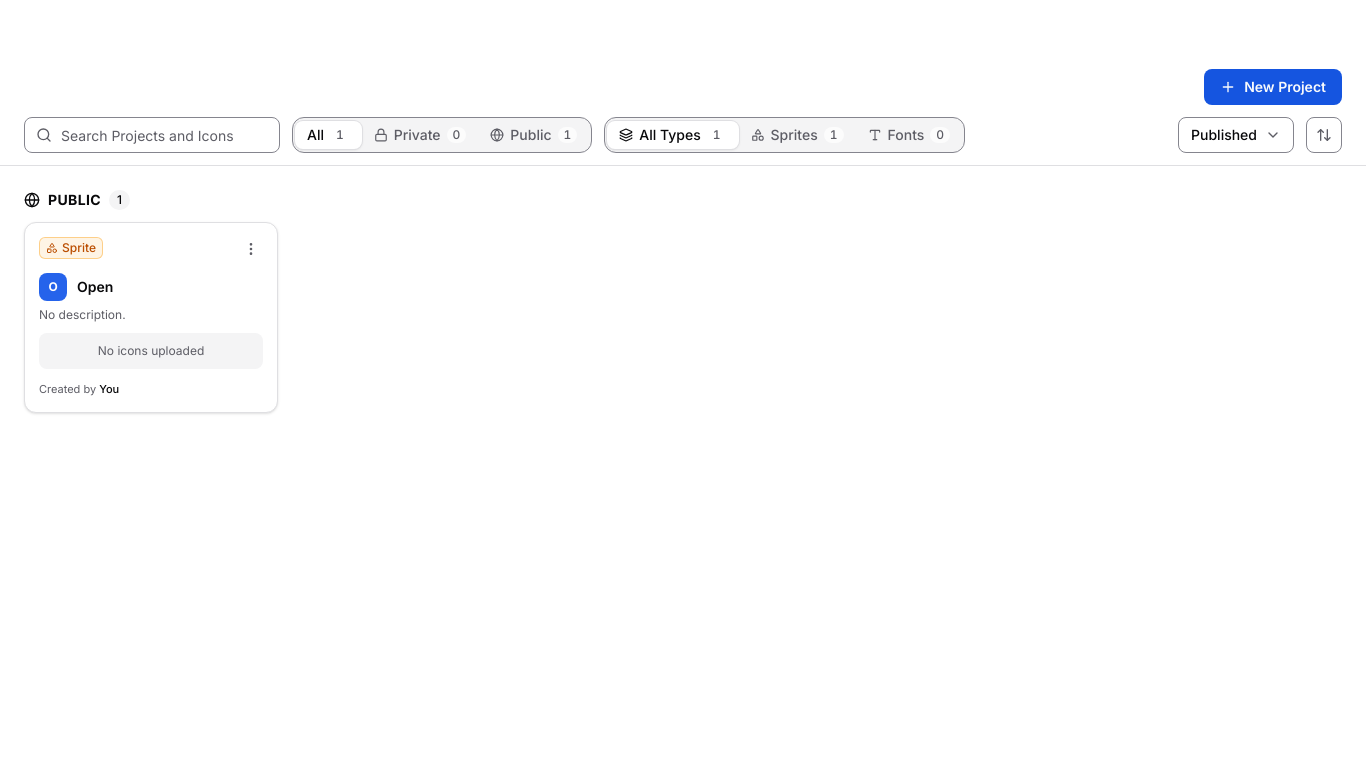
Test: making a project public or private › asks before making a project private, and changes nothing on Cancel
Click the button named "Actions for Open". click: (251,249)
box: [239, 237, 263, 261]
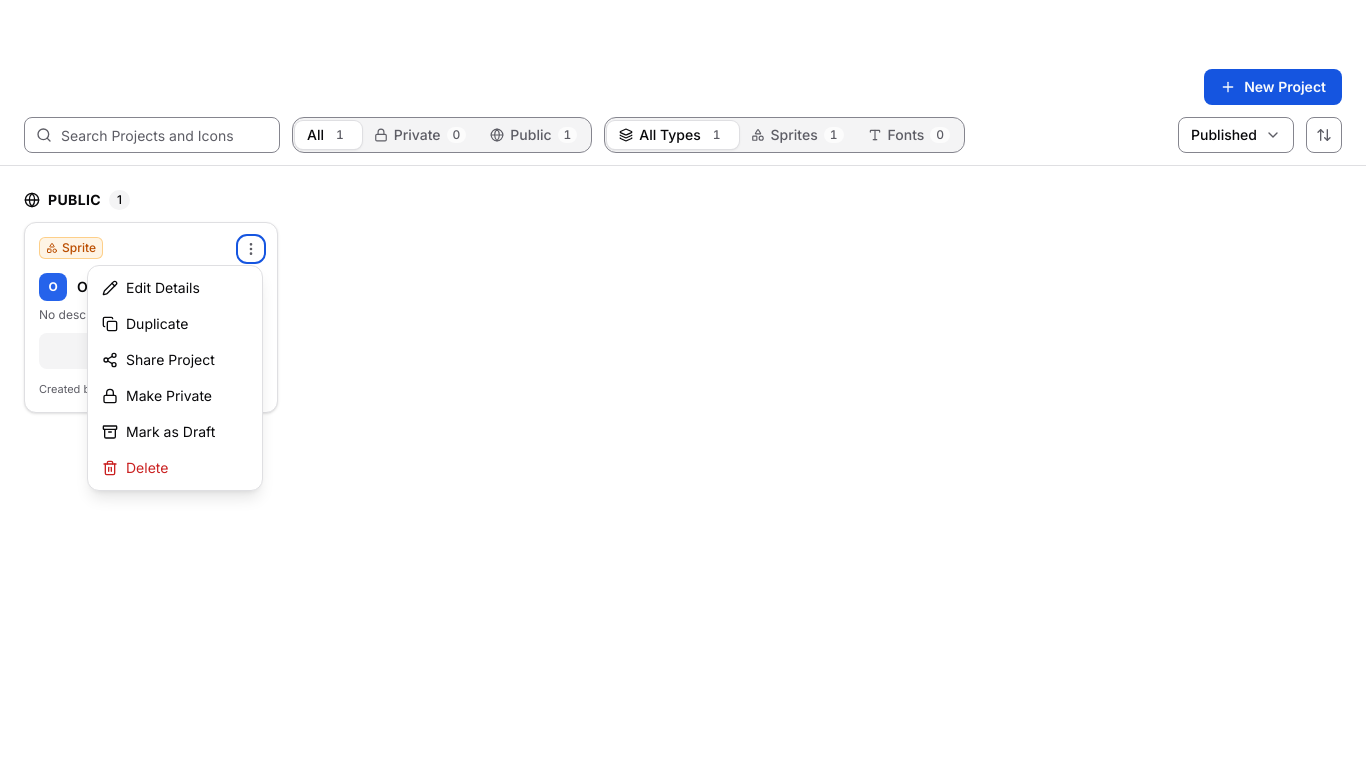
Click the menu item "Make Private". click: (175,396)
box: [92, 378, 258, 414]
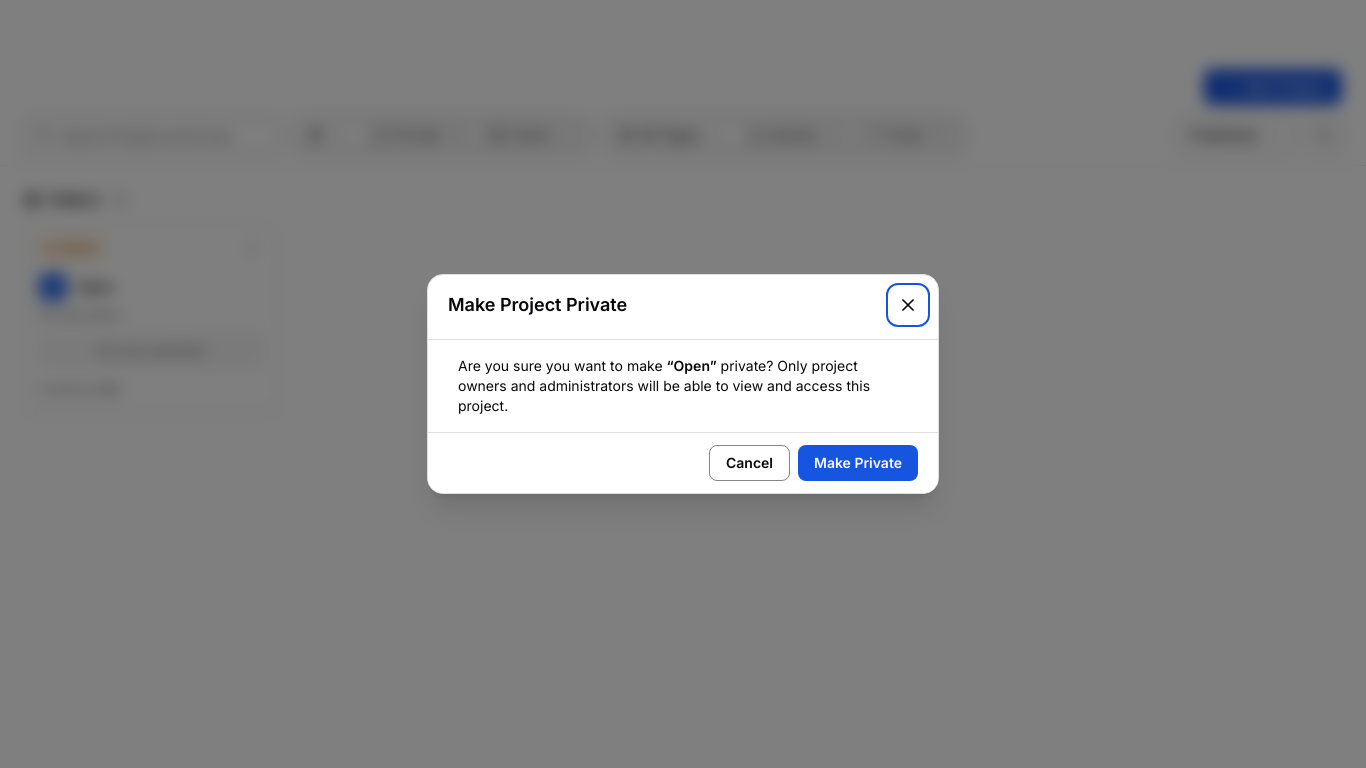
Expected: the dialog "Make Project Private" shows "Are you sure you want to make “Open” private?", [427, 274, 939, 494]
Click the button "Cancel". click: (750,463)
box: [709, 445, 790, 481]
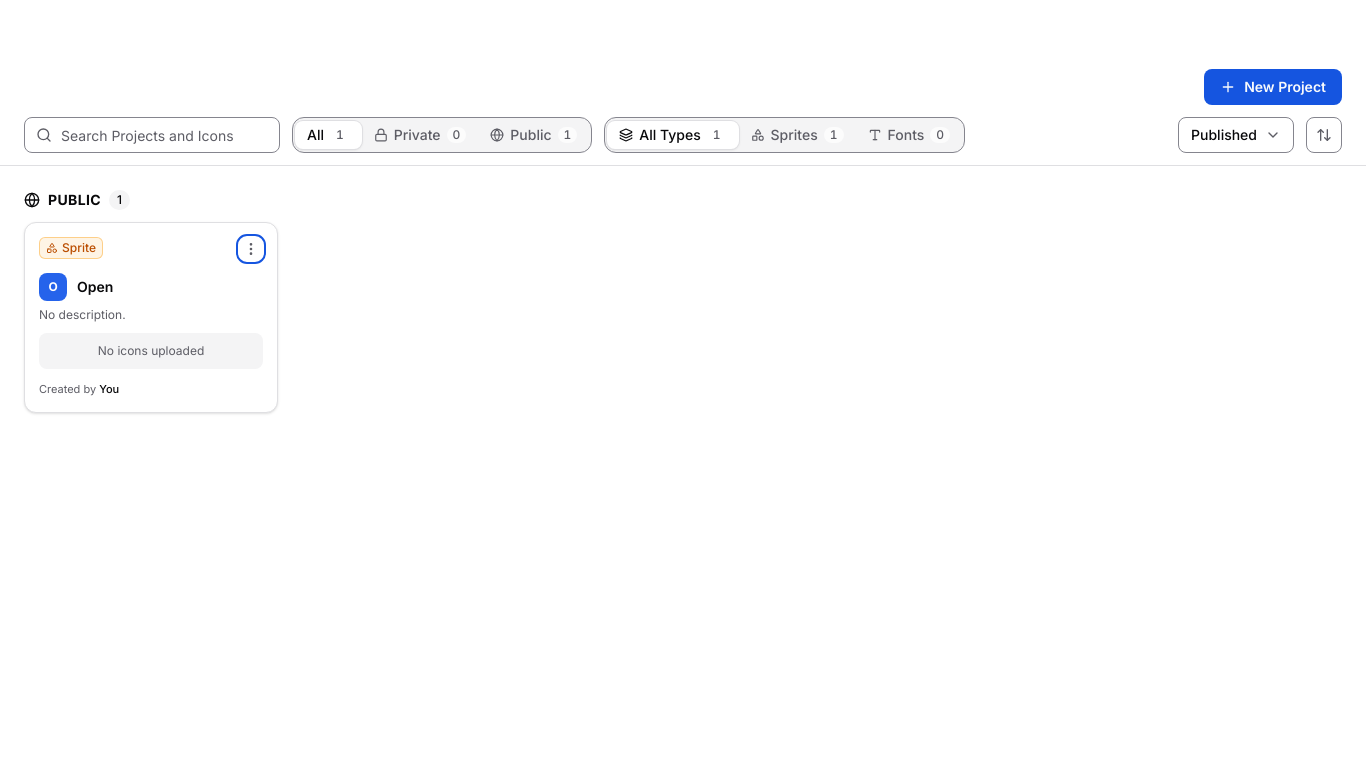
Expected: the dialog is gone
